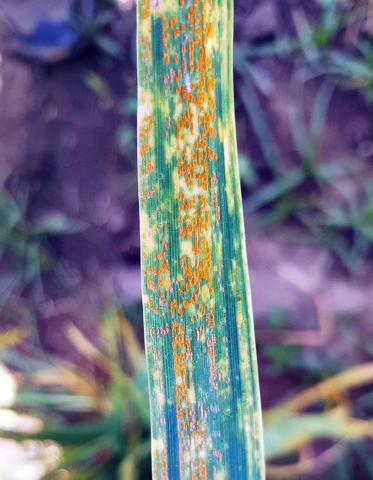Leaf Rust: (129, 6, 269, 468)
